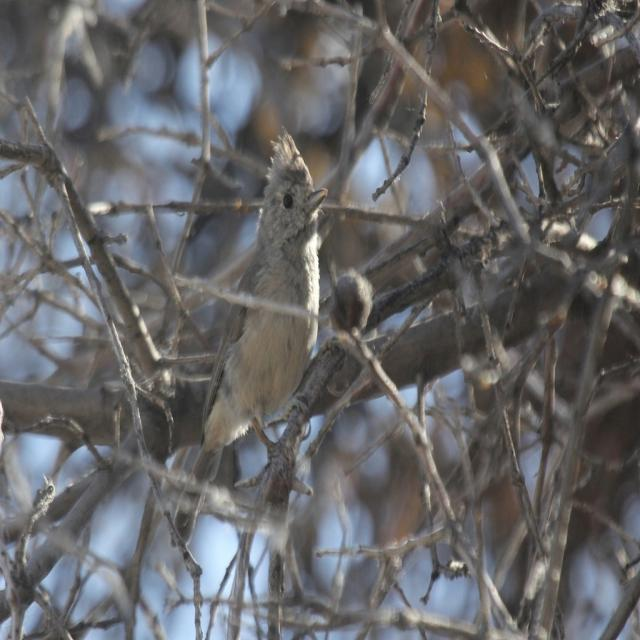bird: (193, 128, 346, 526)
